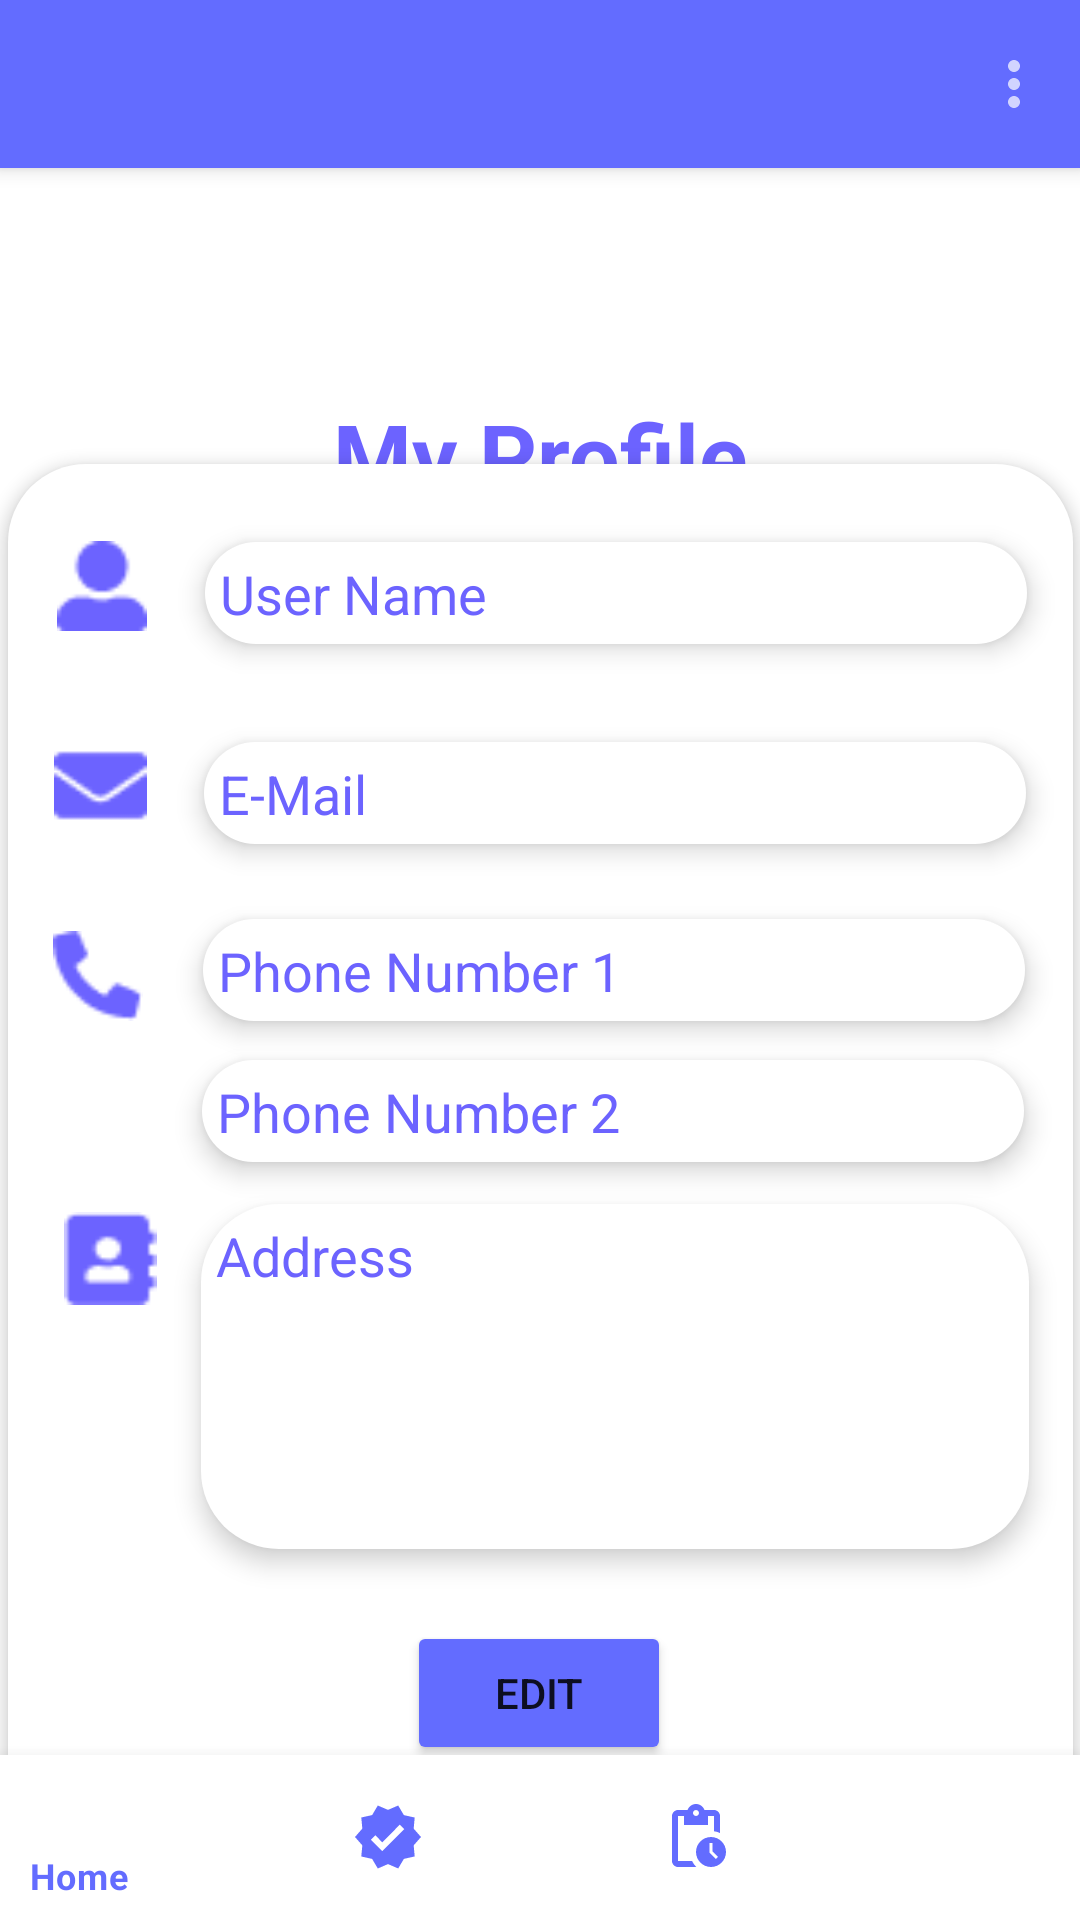

Screen size 1080 × 1920. Icon name, then its box in pixels as (x1,y1,x2,y2):
emial: (54,751,147,820)
